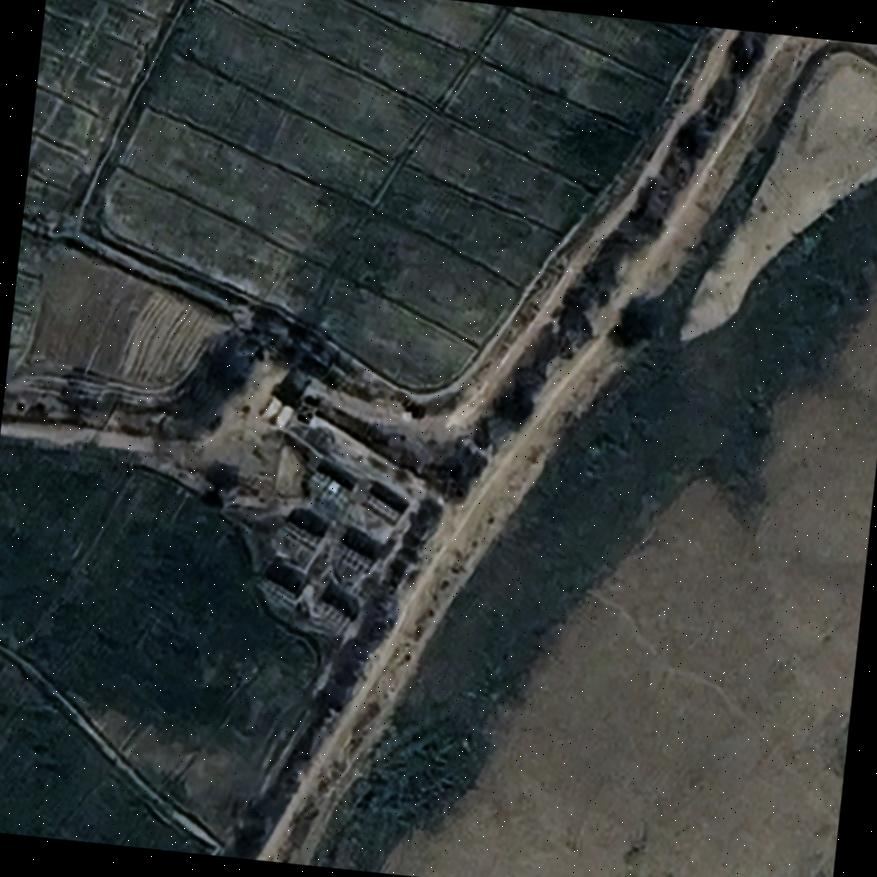Solarpanel: (303, 465, 359, 511), (307, 595, 356, 637), (330, 537, 378, 579), (358, 487, 405, 529), (278, 511, 324, 553), (254, 572, 301, 611)
